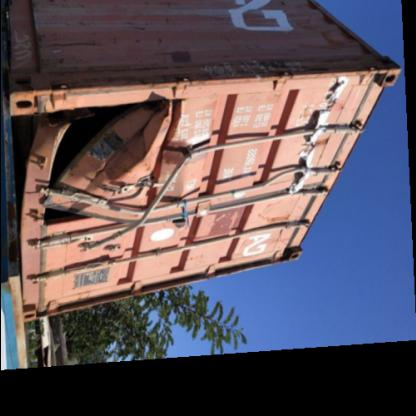Damage: (6, 86, 214, 242)
